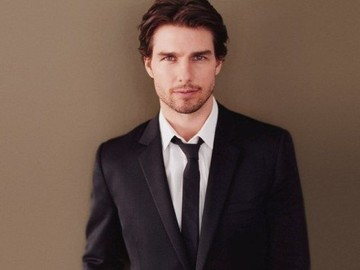tie: (169, 132, 216, 256)
